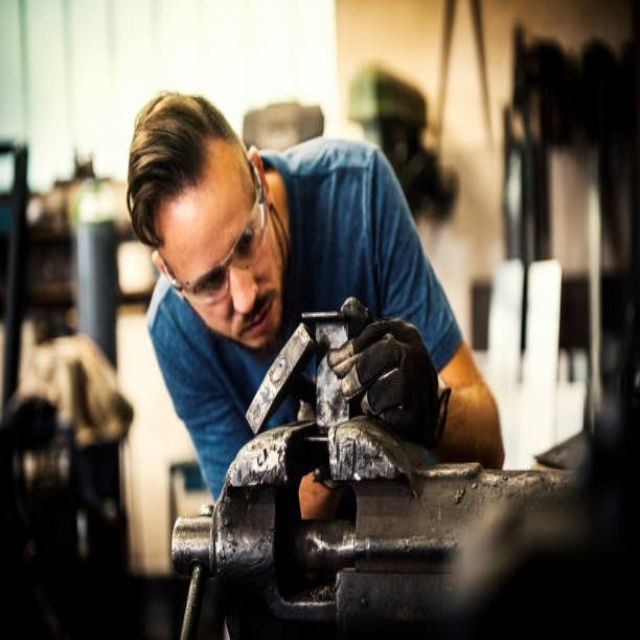Gafas: (160, 158, 266, 304)
Guantes: (325, 307, 446, 446)
Sin_mascara: (230, 290, 279, 350)
